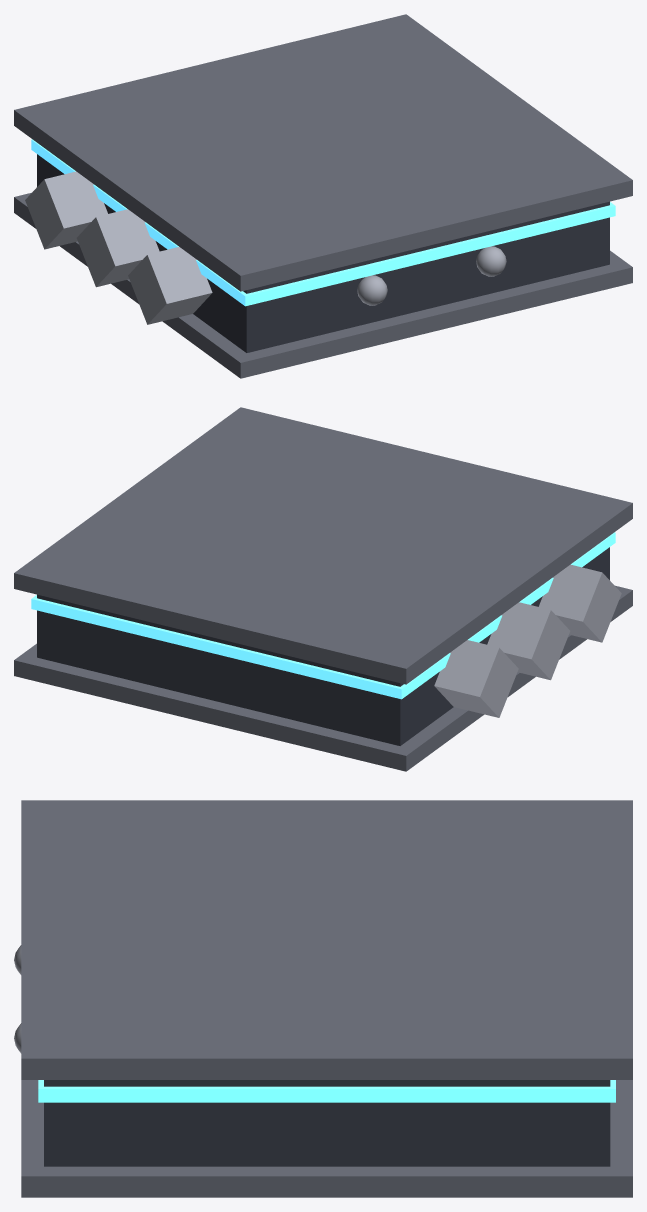
3 renders of one model, top to bottom at view 1: azimuth 30°, elevation 25°; view 2: azimuth 150°, elevation 25°; view 3: azimuth 270°, elevation 25°, orthographic. The views are drawn at different scales.
Parts seen in each view (by area): view 1: iron-knuckle-band; view 2: iron-knuckle-band; view 3: iron-knuckle-band.
Part boxes in pixels (box(x1,y1,x2,y2)): iron-knuckle-band: box(14, 14, 632, 378); iron-knuckle-band: box(14, 407, 632, 771); iron-knuckle-band: box(14, 800, 632, 1197).
Bounding box in the file's own units: 0.3692 × 0.0857 × 0.3462.
